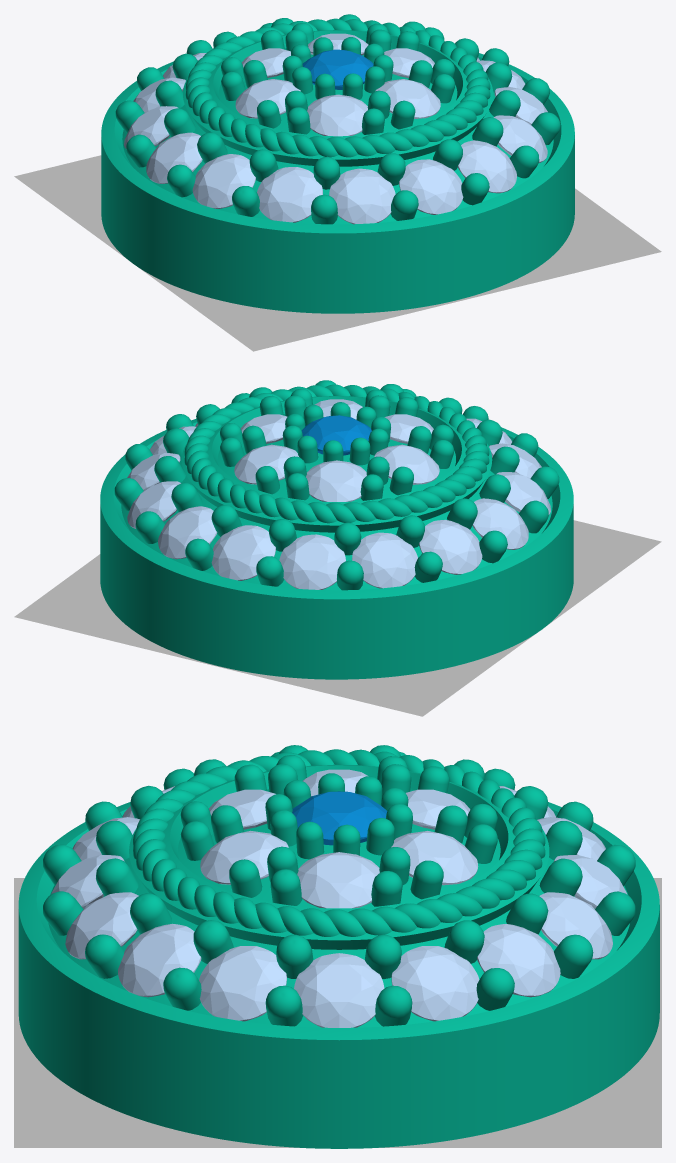
3 views of the same model, one above another, from view 1: azimuth 30°, elevation 25°; view 2: azimuth 150°, elevation 25°; view 3: azimuth 270°, elevation 25° (orthographic). The views are drawn at different scales.
Visible parts, largest first — view 1: Brinco.3dm, Diamond_Round (×16), Prong On Surface (×26), ROPE BUILDER (×2); view 2: Brinco.3dm, Diamond_Round (×16), Prong On Surface (×28), ROPE BUILDER (×2); view 3: Brinco.3dm, Diamond_Round (×18), Prong On Surface (×45), ROPE BUILDER (×2).
Boxes of the visible parts, x1,y1,x2,y2 form: Brinco.3dm: (14,30,661,351); Diamond_Round (×16): (124,48,547,224); Prong On Surface (×26): (115,60,560,224); ROPE BUILDER (×2): (185,18,490,157); Brinco.3dm: (14,396,661,716); Diamond_Round (×16): (127,414,550,589); Prong On Surface (×28): (114,425,559,590); ROPE BUILDER (×2): (184,384,489,523); Brinco.3dm: (14,764,661,1148); Diamond_Round (×18): (51,769,627,1027); Prong On Surface (×45): (43,764,635,1026); ROPE BUILDER (×2): (133,749,545,936).
Size of the model in its own units: 2.74 by 1 by 2.77.
